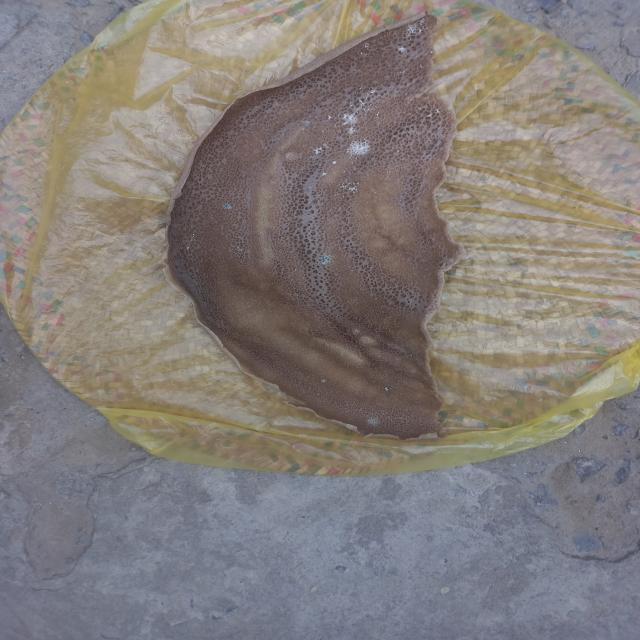injera_mold: (340, 113, 360, 135), (345, 142, 373, 156), (338, 180, 361, 195), (316, 252, 336, 266), (404, 22, 422, 34), (352, 98, 367, 108), (312, 146, 324, 156), (185, 233, 198, 242), (220, 202, 234, 210), (394, 46, 409, 53), (343, 424, 357, 430), (300, 119, 312, 126), (368, 418, 378, 425), (234, 246, 243, 253), (366, 89, 378, 94), (362, 109, 376, 113), (426, 113, 434, 119), (320, 172, 329, 177), (399, 69, 408, 74), (361, 43, 372, 47), (383, 386, 389, 393), (320, 378, 327, 384), (435, 108, 441, 115), (357, 51, 371, 54), (418, 64, 424, 70), (326, 115, 333, 120), (416, 106, 424, 110), (333, 122, 338, 128), (423, 25, 428, 31), (408, 354, 414, 358), (333, 160, 337, 166), (386, 170, 392, 174), (353, 91, 361, 94), (357, 87, 368, 89), (429, 50, 434, 54), (376, 112, 380, 117), (307, 185, 312, 189), (396, 149, 401, 153), (420, 19, 425, 23), (185, 247, 191, 250), (352, 168, 358, 171), (349, 171, 353, 175), (373, 191, 377, 195), (405, 92, 408, 96), (368, 104, 374, 106), (338, 207, 342, 210), (342, 170, 347, 172), (347, 157, 352, 159), (380, 37, 383, 40), (350, 162, 355, 163)
